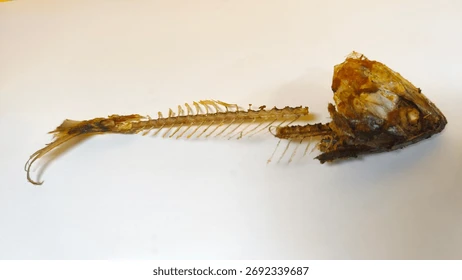food_waste: (13, 51, 447, 186)
